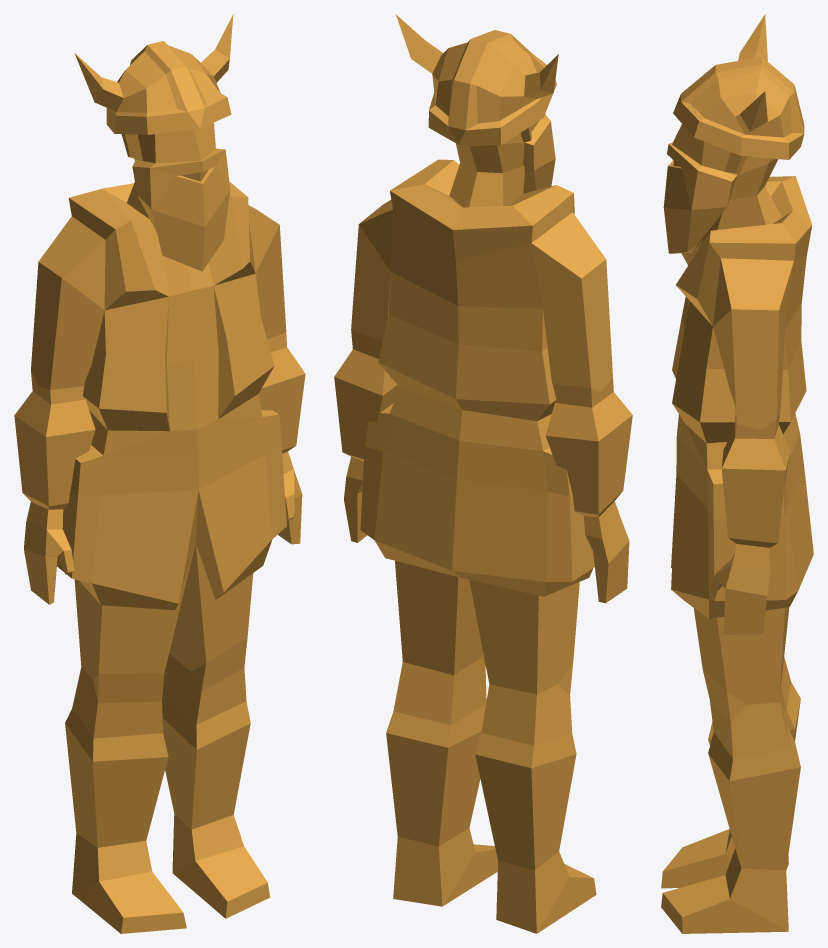
The model's file is man-viking.fbx.
3 views of the same model, side by side, from view 1: azimuth 30°, elevation 25°; view 2: azimuth 150°, elevation 25°; view 3: azimuth 270°, elevation 25° (orthographic). The views are drawn at different scales.
Parts seen in each view (by area): view 1: man-viking; view 2: man-viking; view 3: man-viking.
Boxes of the visible parts, x1,y1,x2,y2 form: man-viking: [14, 14, 305, 933]; man-viking: [334, 14, 632, 933]; man-viking: [661, 14, 813, 933].
Size of the model in its own units: 0.5958 by 1.87 by 0.3059.
